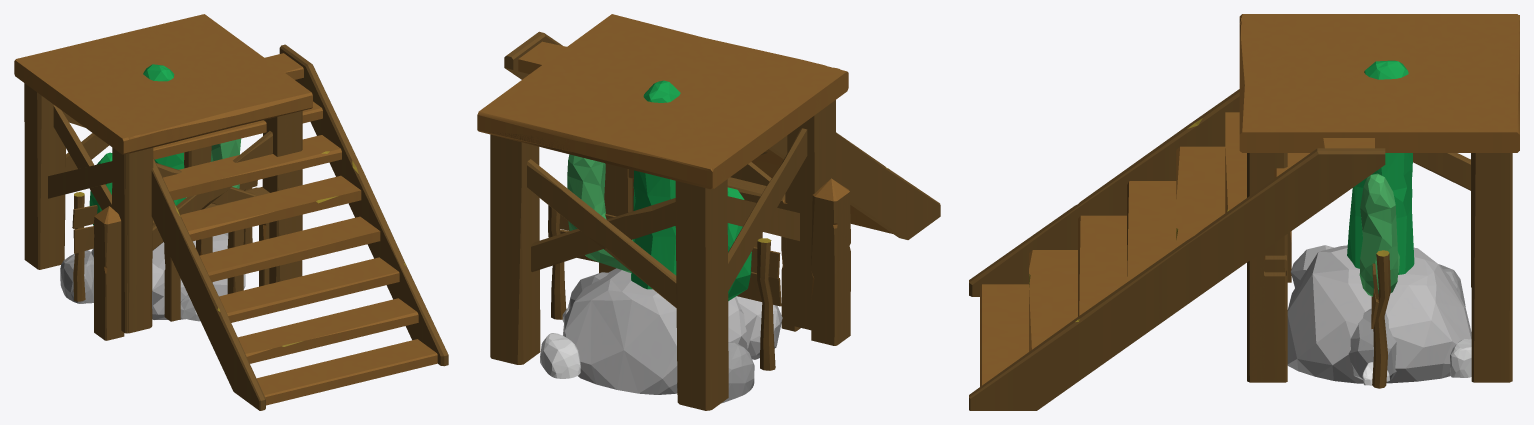
3 renders of one model, left to right at view 1: azimuth 30°, elevation 25°; view 2: azimuth 150°, elevation 25°; view 3: azimuth 270°, elevation 25°, orthographic. The views are drawn at different scales.
Visible parts, largest first — view 1: BG_wood_stairs_01, BG_upstairs, BG_upstairs_conner, BG_woodfence_02, BG_rock_01, BG_Cactus_01, BG_woodfence_01; view 2: BG_upstairs, BG_upstairs_conner, BG_rock_01, BG_wood_stairs_01, BG_Cactus_01, BG_woodfence_02, BG_woodfence_01; view 3: BG_wood_stairs_01, BG_upstairs, BG_upstairs_conner, BG_rock_01, BG_Cactus_01, BG_woodfence_01.
Part boxes in pixels (box(x1,y1,x2,y2)): BG_wood_stairs_01: box(151, 44, 448, 410); BG_upstairs: box(14, 14, 312, 333); BG_upstairs_conner: box(14, 14, 310, 333); BG_woodfence_02: box(94, 187, 269, 340); BG_rock_01: box(60, 234, 245, 321); BG_Cactus_01: box(89, 64, 241, 307); BG_woodfence_01: box(72, 180, 257, 301); BG_upstairs: box(477, 14, 848, 410); BG_upstairs_conner: box(477, 15, 844, 410); BG_rock_01: box(540, 268, 754, 403); BG_wood_stairs_01: box(504, 31, 940, 239); BG_Cactus_01: box(567, 80, 782, 359); BG_woodfence_02: box(628, 169, 850, 345); BG_woodfence_01: box(548, 205, 781, 370); BG_wood_stairs_01: box(969, 89, 1385, 410); BG_upstairs: box(1239, 14, 1519, 382); BG_upstairs_conner: box(1239, 14, 1519, 382); BG_rock_01: box(1287, 245, 1471, 385); BG_Cactus_01: box(1291, 60, 1414, 380); BG_woodfence_01: box(1371, 250, 1390, 388).
Size of the model in its own units: 24.34 by 22.72 by 39.3.
